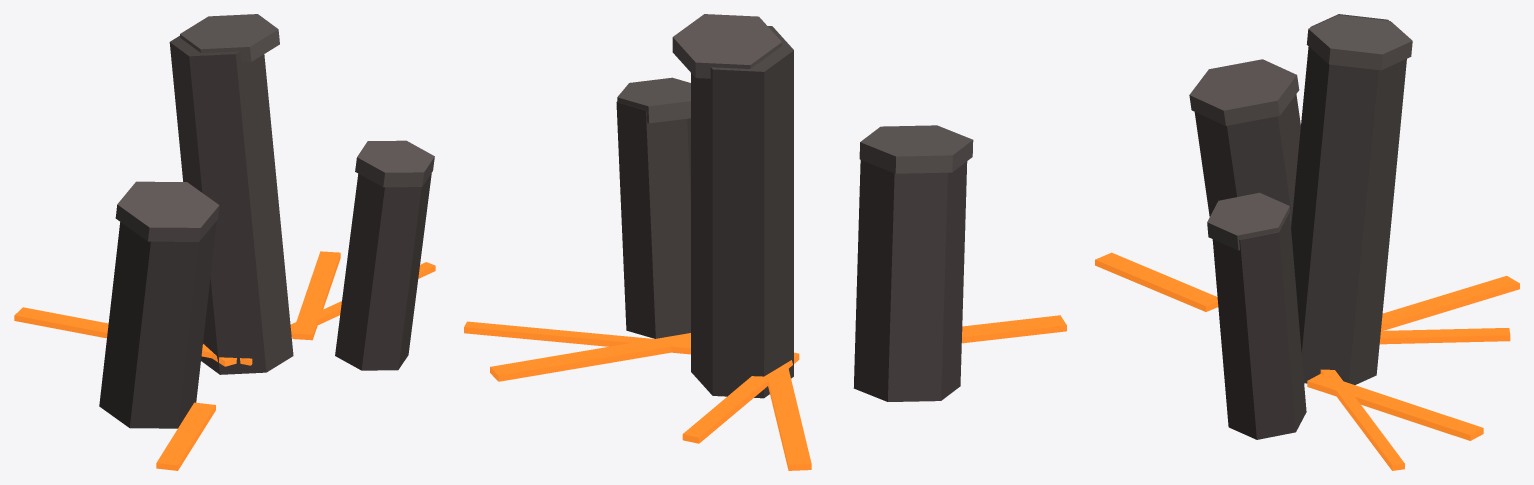
Rendered from runtime.glb.
3 views of the same model, side by side, from view 1: azimuth 30°, elevation 25°; view 2: azimuth 150°, elevation 25°; view 3: azimuth 270°, elevation 25° (orthographic). The views are drawn at different scales.
Parts seen in each view (by area): view 1: magma_outcrop_basalt_nocol, magma_outcrop_cap_noshadow_nocol, magma_outcrop_lava_noshadow_nocol; view 2: magma_outcrop_basalt_nocol, magma_outcrop_cap_noshadow_nocol, magma_outcrop_lava_noshadow_nocol; view 3: magma_outcrop_basalt_nocol, magma_outcrop_cap_noshadow_nocol, magma_outcrop_lava_noshadow_nocol.
Boxes of the visible parts, box(x1,y1,x2,y2) form: magma_outcrop_basalt_nocol: box(99, 36, 431, 428); magma_outcrop_cap_noshadow_nocol: box(115, 14, 434, 241); magma_outcrop_lava_noshadow_nocol: box(14, 251, 435, 470); magma_outcrop_basalt_nocol: box(616, 26, 967, 401); magma_outcrop_cap_noshadow_nocol: box(617, 14, 973, 173); magma_outcrop_lava_noshadow_nocol: box(464, 315, 1066, 470); magma_outcrop_basalt_nocol: box(1194, 14, 1406, 439); magma_outcrop_cap_noshadow_nocol: box(1189, 15, 1412, 250); magma_outcrop_lava_noshadow_nocol: box(1095, 252, 1519, 470).
Bounding box in the file's own units: 4.64 × 3.51 × 3.92.
